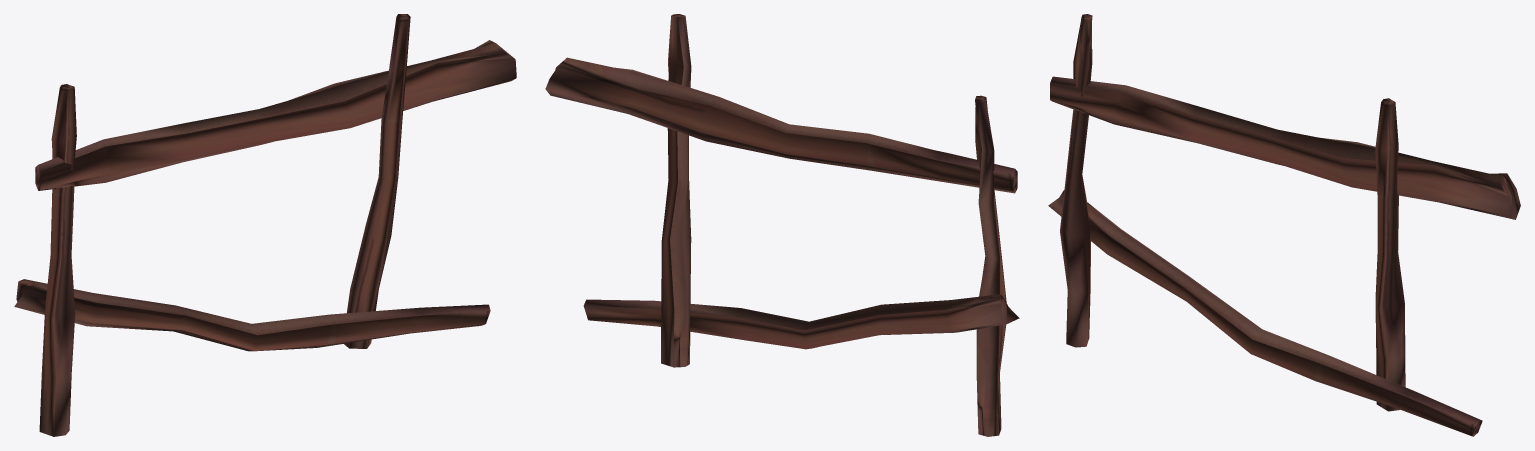
Rendered from Broken_fence_01.fbx.
3 renders of one model, left to right at view 1: azimuth 30°, elevation 25°; view 2: azimuth 150°, elevation 25°; view 3: azimuth 330°, elevation 25°, orthographic. The views are drawn at different scales.
Visible parts, largest first — view 1: Fence.002; view 2: Fence.002; view 3: Fence.002.
Part boxes in pixels (bbox=[...]): Fence.002: bbox=[14, 14, 516, 436]; Fence.002: bbox=[545, 14, 1019, 436]; Fence.002: bbox=[1048, 14, 1520, 436].
Bounding box in the file's own units: 143427 × 95396 × 17374.
